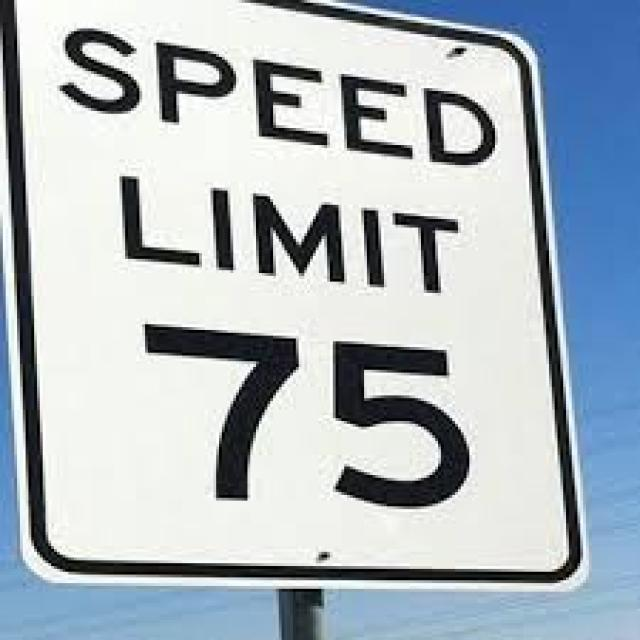speedLimit75: (16, 12, 550, 580)
